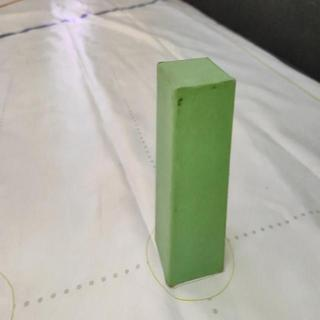greenbox: (155, 56, 237, 289)
